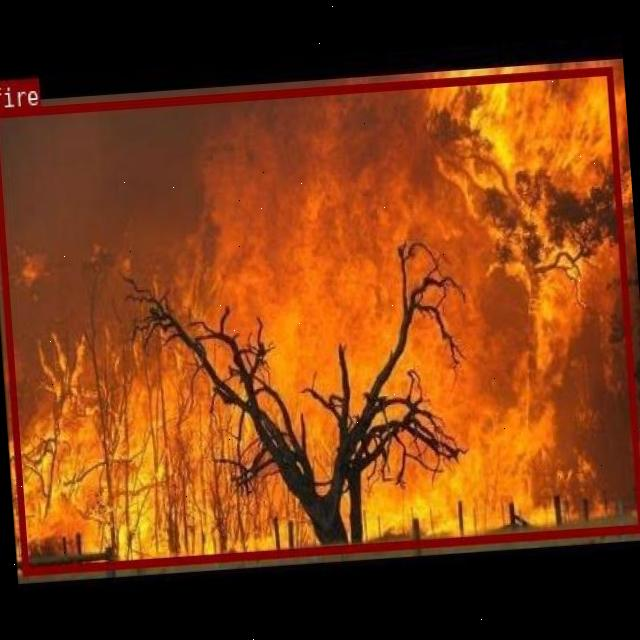fire: (0, 65, 640, 573)
